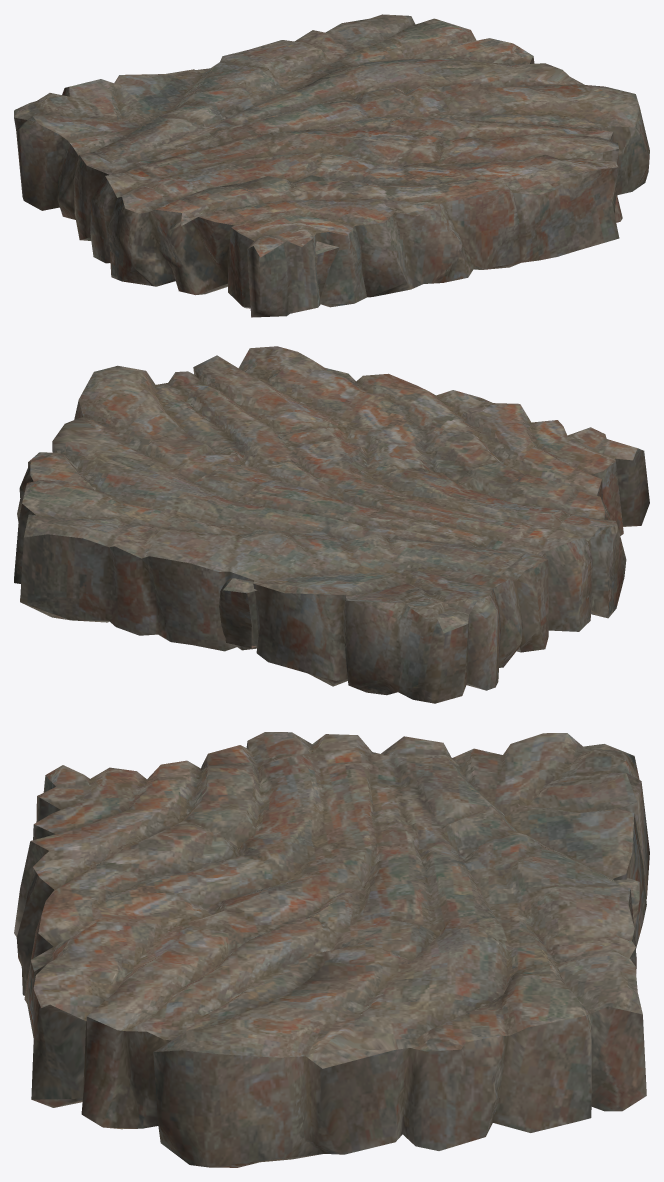
The model's file is bg_rad_kamen_rockfloor03e_sm.obj.
3 renders of one model, top to bottom at view 1: azimuth 30°, elevation 25°; view 2: azimuth 150°, elevation 25°; view 3: azimuth 270°, elevation 25°, orthographic. The views are drawn at different scales.
Visible parts, largest first — view 1: bg_rad_kamen_rockfloor03e_sm_0; view 2: bg_rad_kamen_rockfloor03e_sm_0; view 3: bg_rad_kamen_rockfloor03e_sm_0.
Part boxes in pixels (x1=…): bg_rad_kamen_rockfloor03e_sm_0: x1=14, y1=14, x2=649, y2=317; bg_rad_kamen_rockfloor03e_sm_0: x1=14, y1=346, x2=649, y2=703; bg_rad_kamen_rockfloor03e_sm_0: x1=14, y1=732, x2=649, y2=1167.
Bounding box in the file's own units: 3.21 × 0.571 × 2.54.
1 material, 1 textured.
